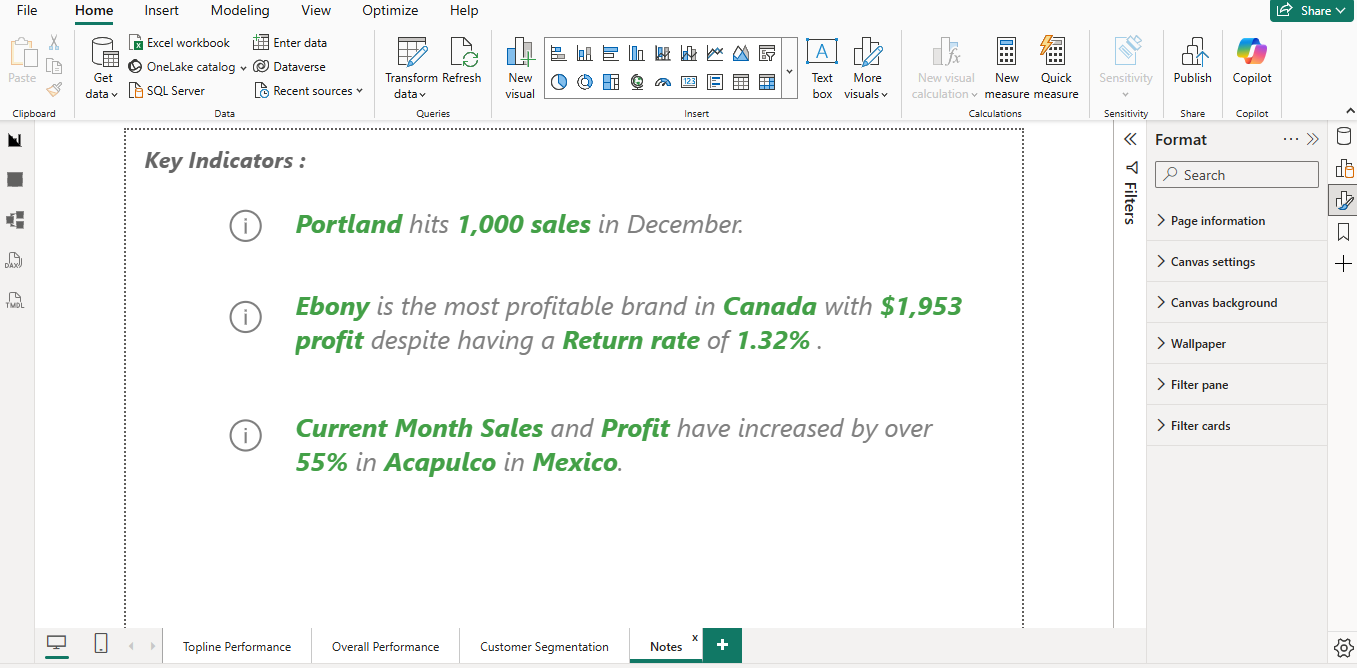

Layout of this report page (visuals, bound fields, positions):
{"tool":"powerbi","page":{"name":"Notes","canvas":[1280,720],"ordinal":3},"visuals":[{"type":"textbox","box":[237.6,100.8,967.7,95],"z":0},{"type":"actionButton","box":[141.1,100.8,59,72],"z":1000},{"type":"textbox","box":[237.6,218.9,967.7,123.8],"z":2000},{"type":"actionButton","box":[141.1,218.9,59,96.5],"z":3000},{"type":"textbox","box":[237.6,393.1,967.7,131],"z":4000},{"type":"actionButton","box":[141.1,393.1,59,86.4],"z":5000},{"type":"textbox","box":[21.6,14.4,275,69.1],"z":5001}]}

Visuals, with their boxes on the page's 1280x720 design canvas (x1, y1, x2, y2). These are canvas units, not pixel positions in the 1357x668 screenshot, which may show the page scaled, cropped or inside an application window:
textbox: 238:101:1205:196
actionButton: 141:101:200:173
textbox: 238:219:1205:343
actionButton: 141:219:200:315
textbox: 238:393:1205:524
actionButton: 141:393:200:480
textbox: 22:14:297:84
